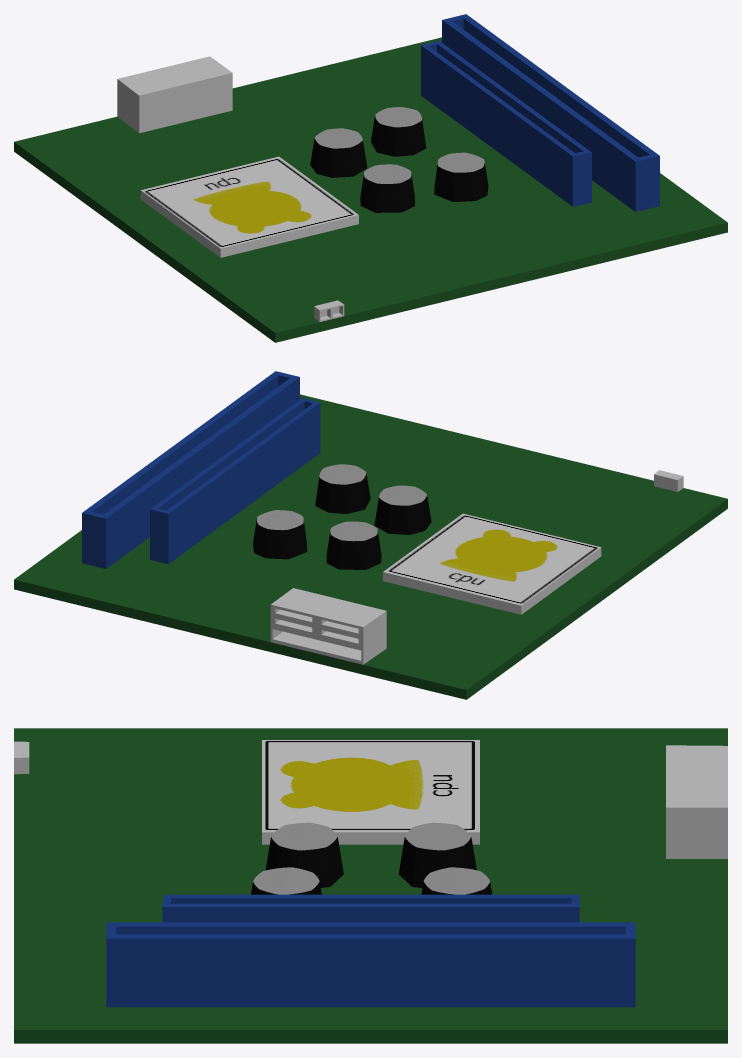
The model's file is electronicParts.fbx.
The picture shows the model from 3 angles, top to bottom: view 1: azimuth 30°, elevation 25°; view 2: azimuth 150°, elevation 25°; view 3: azimuth 270°, elevation 25°; orthographic projection. The views are drawn at different scales.
Parts seen in each view (by area): view 1: Cube; view 2: Cube; view 3: Cube.
Boxes of the visible parts, box(x1,y1,x2,y2) form: Cube: box(14, 14, 727, 342); Cube: box(14, 371, 727, 699); Cube: box(14, 728, 727, 1043).
Bounding box in the file's own units: 200 × 25.41 × 200.
6 materials, 1 textured.
